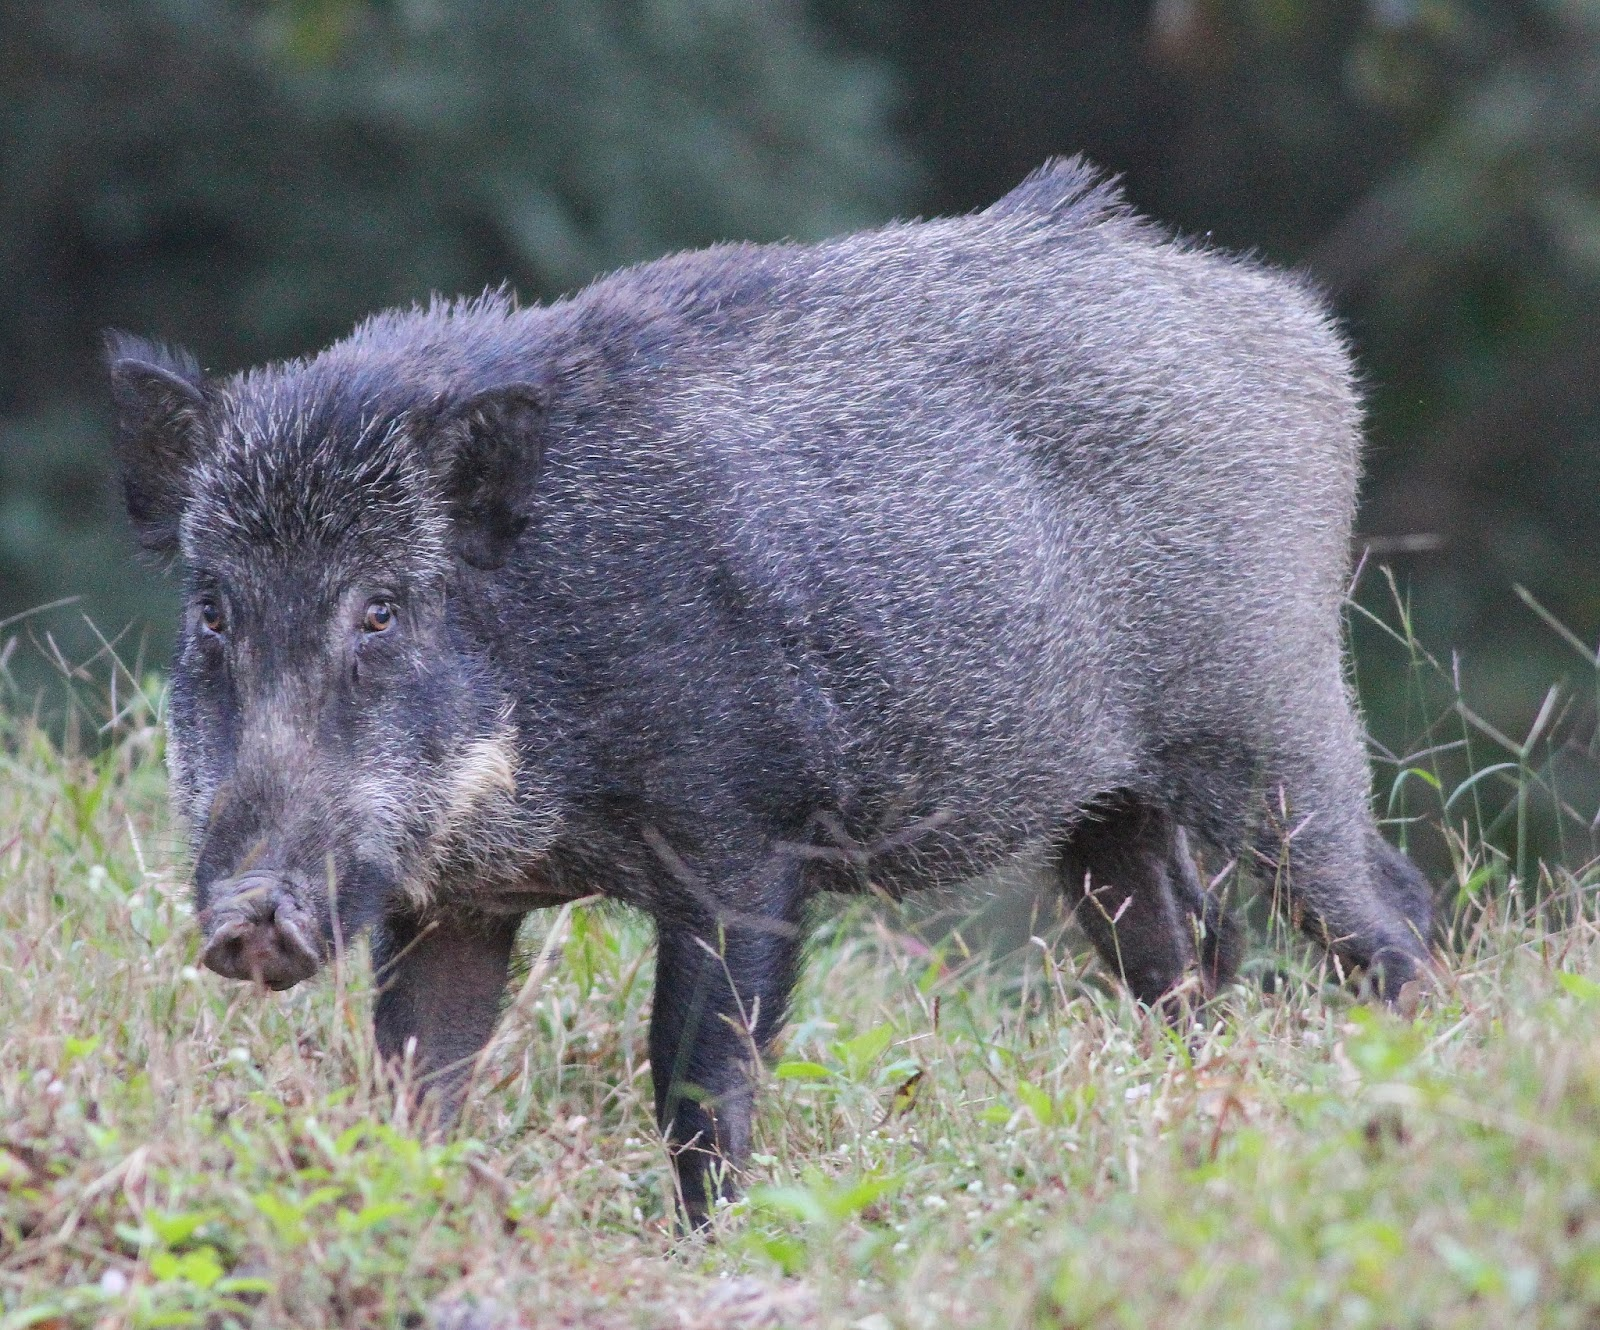wild boar: (73, 159, 1534, 1282)
